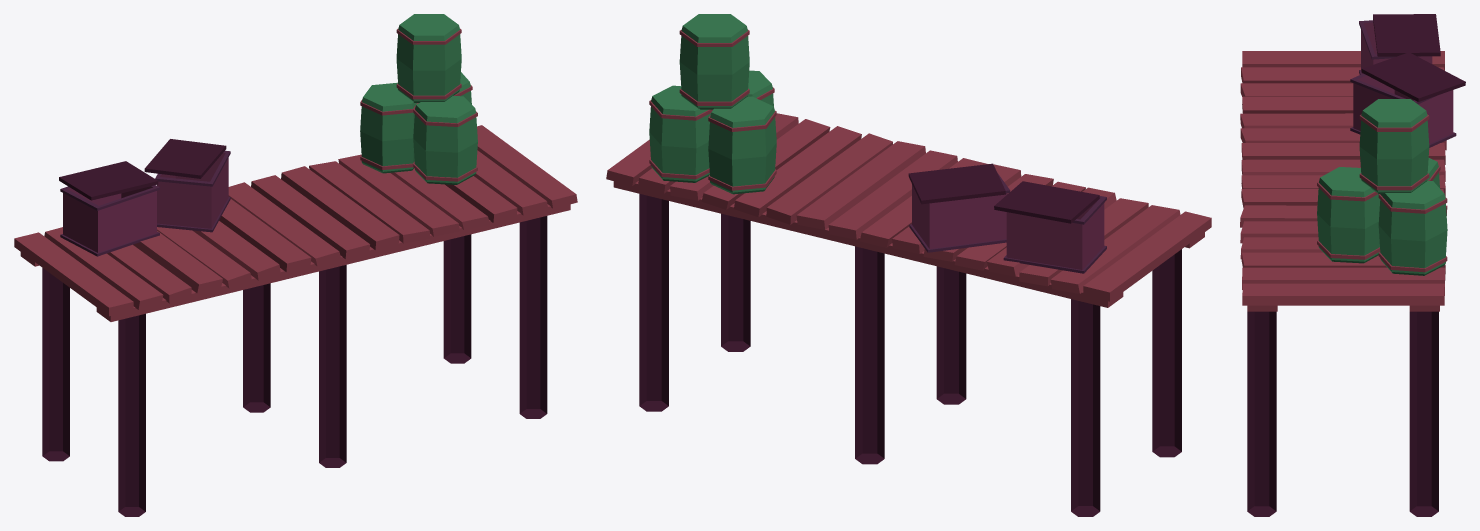
The model's file is dock.glb.
3 renders of one model, left to right at view 1: azimuth 30°, elevation 25°; view 2: azimuth 150°, elevation 25°; view 3: azimuth 270°, elevation 25°, orthographic. The views are drawn at different scales.
Visible parts, largest first — view 1: Deck, Poles, Barrel.003, Crate, Barrel.002, Barrel.001, Crate.001, UnderPlanks, Cover, Cover.001; view 2: Poles, Deck, Barrel.003, Barrel.001, Crate, Barrel, Crate.001, UnderPlanks, Cover.001, Cover; view 3: Deck, Poles, Barrel.003, Barrel, Barrel.002, Cover.001, Cover, Crate.001, Crate, UnderPlanks, Barrel.001.
Part boxes in pixels (x1,y1,x2,y2): Deck: [14, 125, 577, 316]; Poles: [42, 216, 547, 516]; Barrel.003: [396, 14, 461, 102]; Crate: [60, 185, 159, 256]; Barrel.002: [413, 95, 477, 184]; Barrel.001: [360, 82, 418, 173]; Crate.001: [155, 150, 230, 232]; UnderPlanks: [20, 204, 570, 321]; Cover: [59, 161, 158, 200]; Cover.001: [144, 139, 226, 178]; Poles: [639, 193, 1181, 516]; Deck: [606, 113, 1211, 301]; Barrel.003: [679, 14, 749, 109]; Barrel.001: [708, 96, 776, 194]; Crate: [1003, 196, 1106, 273]; Barrel: [649, 85, 712, 182]; Crate.001: [909, 173, 1010, 252]; UnderPlanks: [613, 181, 1204, 307]; Cover.001: [908, 163, 1005, 204]; Cover: [994, 181, 1099, 223]; Deck: [1240, 51, 1447, 305]; Poles: [1247, 311, 1438, 516]; Barrel.003: [1359, 99, 1429, 193]; Barrel: [1378, 180, 1447, 275]; Barrel.002: [1317, 167, 1380, 263]; Cover.001: [1361, 52, 1465, 101]; Cover: [1373, 14, 1440, 56]; Crate.001: [1350, 73, 1456, 147]; Crate: [1359, 20, 1432, 74]; UnderPlanks: [1247, 305, 1439, 311]; Barrel.001: [1427, 158, 1440, 187].
Bounding box in the file's own units: 11.42 × 8.24 × 4.45.
Materials: 1 (1 with a texture image).
